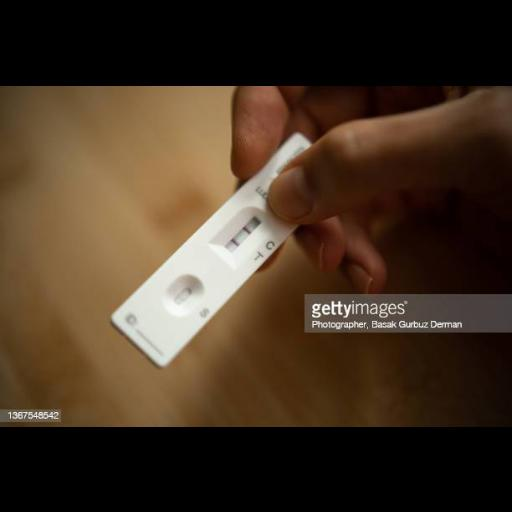Pos: (110, 180, 299, 368)
